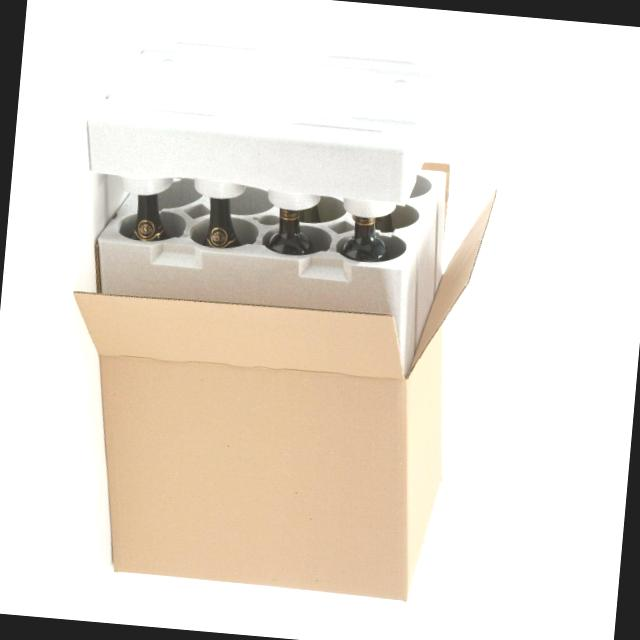Garbage: (24, 0, 538, 639)
